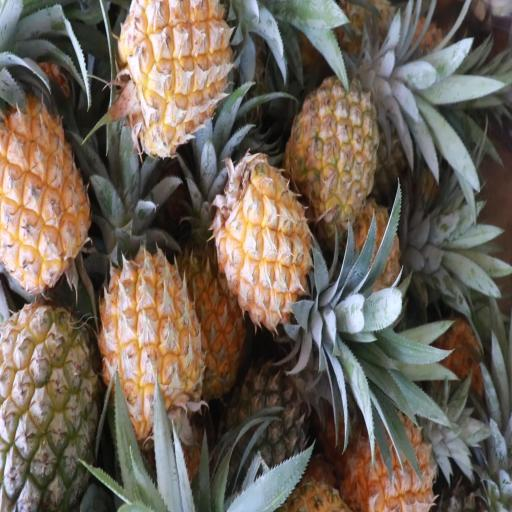------------------------------: (0, 307, 100, 512), (288, 77, 378, 221)
Pineapple - v8 v1: (104, 257, 204, 433), (118, 1, 233, 154), (220, 154, 318, 329), (0, 110, 91, 296), (346, 397, 436, 512), (179, 244, 246, 392)
